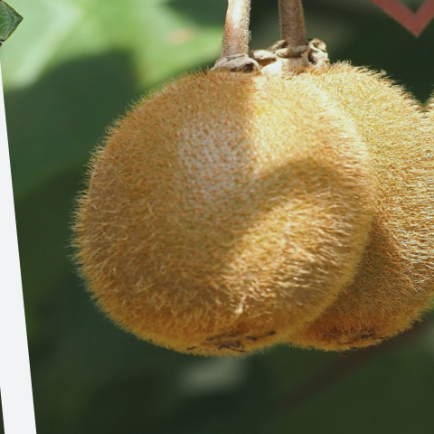kiwi: (53, 34, 392, 394)
